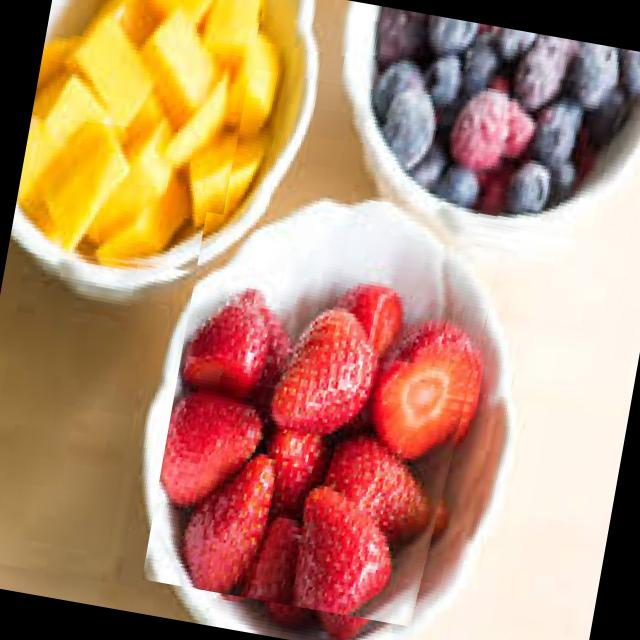Organic: (142, 212, 498, 630), (317, 1, 640, 263), (7, 0, 264, 285)
